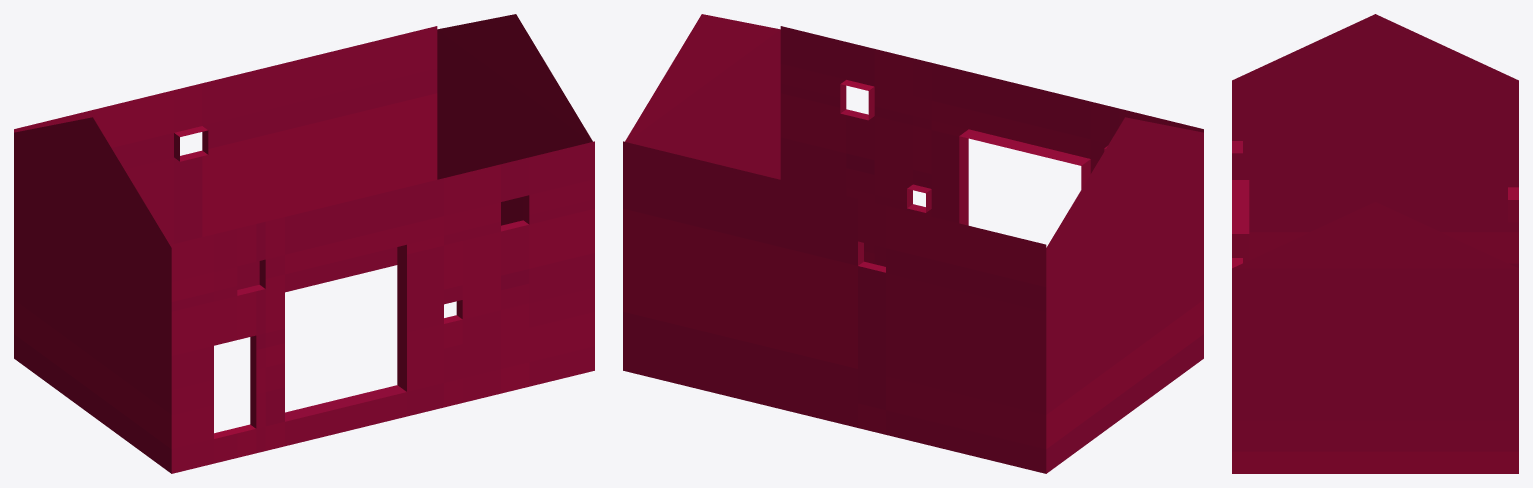
Rendered from SM_Bld_119_Masonry.glb.
3 views of the same model, side by side, from view 1: azimuth 30°, elevation 25°; view 2: azimuth 150°, elevation 25°; view 3: azimuth 270°, elevation 25° (orthographic). The views are drawn at different scales.
Parts seen in each view (by area): view 1: SM_Bld_119_Masonry; view 2: SM_Bld_119_Masonry; view 3: SM_Bld_119_Masonry.
Boxes of the visible parts, x1,y1,x2,y2 form: SM_Bld_119_Masonry: (14, 14, 594, 473); SM_Bld_119_Masonry: (623, 14, 1203, 473); SM_Bld_119_Masonry: (1232, 14, 1518, 473).
Size of the model in its own units: 9.02 by 6.09 by 5.82.
